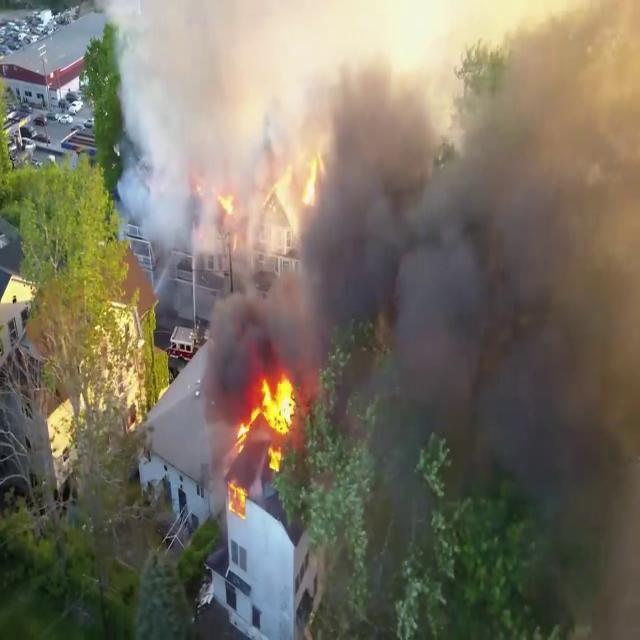Fire: (233, 364, 303, 456)
Smoke: (200, 1, 640, 428), (104, 1, 284, 240)
